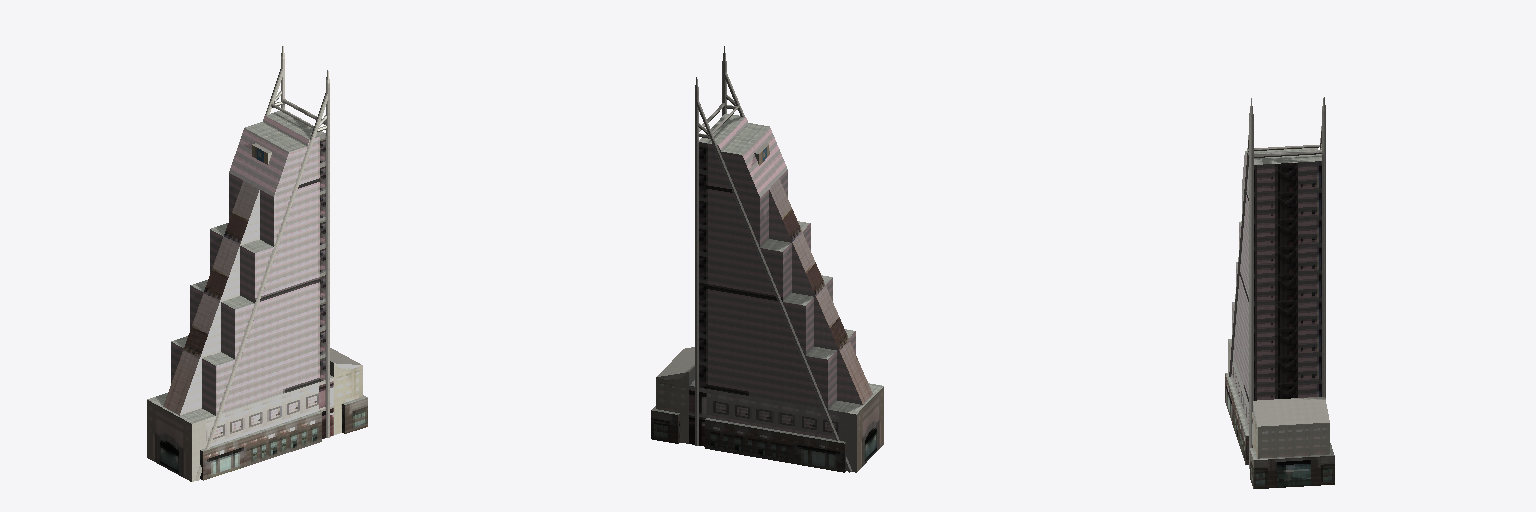
3 views of the same model, side by side, from view 1: azimuth 30°, elevation 25°; view 2: azimuth 150°, elevation 25°; view 3: azimuth 270°, elevation 25° (orthographic).
Parts seen in each view (by area): view 1: Material__307; view 2: Material__307; view 3: Material__307.
Part boxes in pixels (x1,y1,x2,y2): Material__307: (147,46,367,481); Material__307: (651,46,883,472); Material__307: (1225,97,1334,488).
Size of the model in its own units: 89.83 by 162 by 43.14.
1 materials, 1 textured.